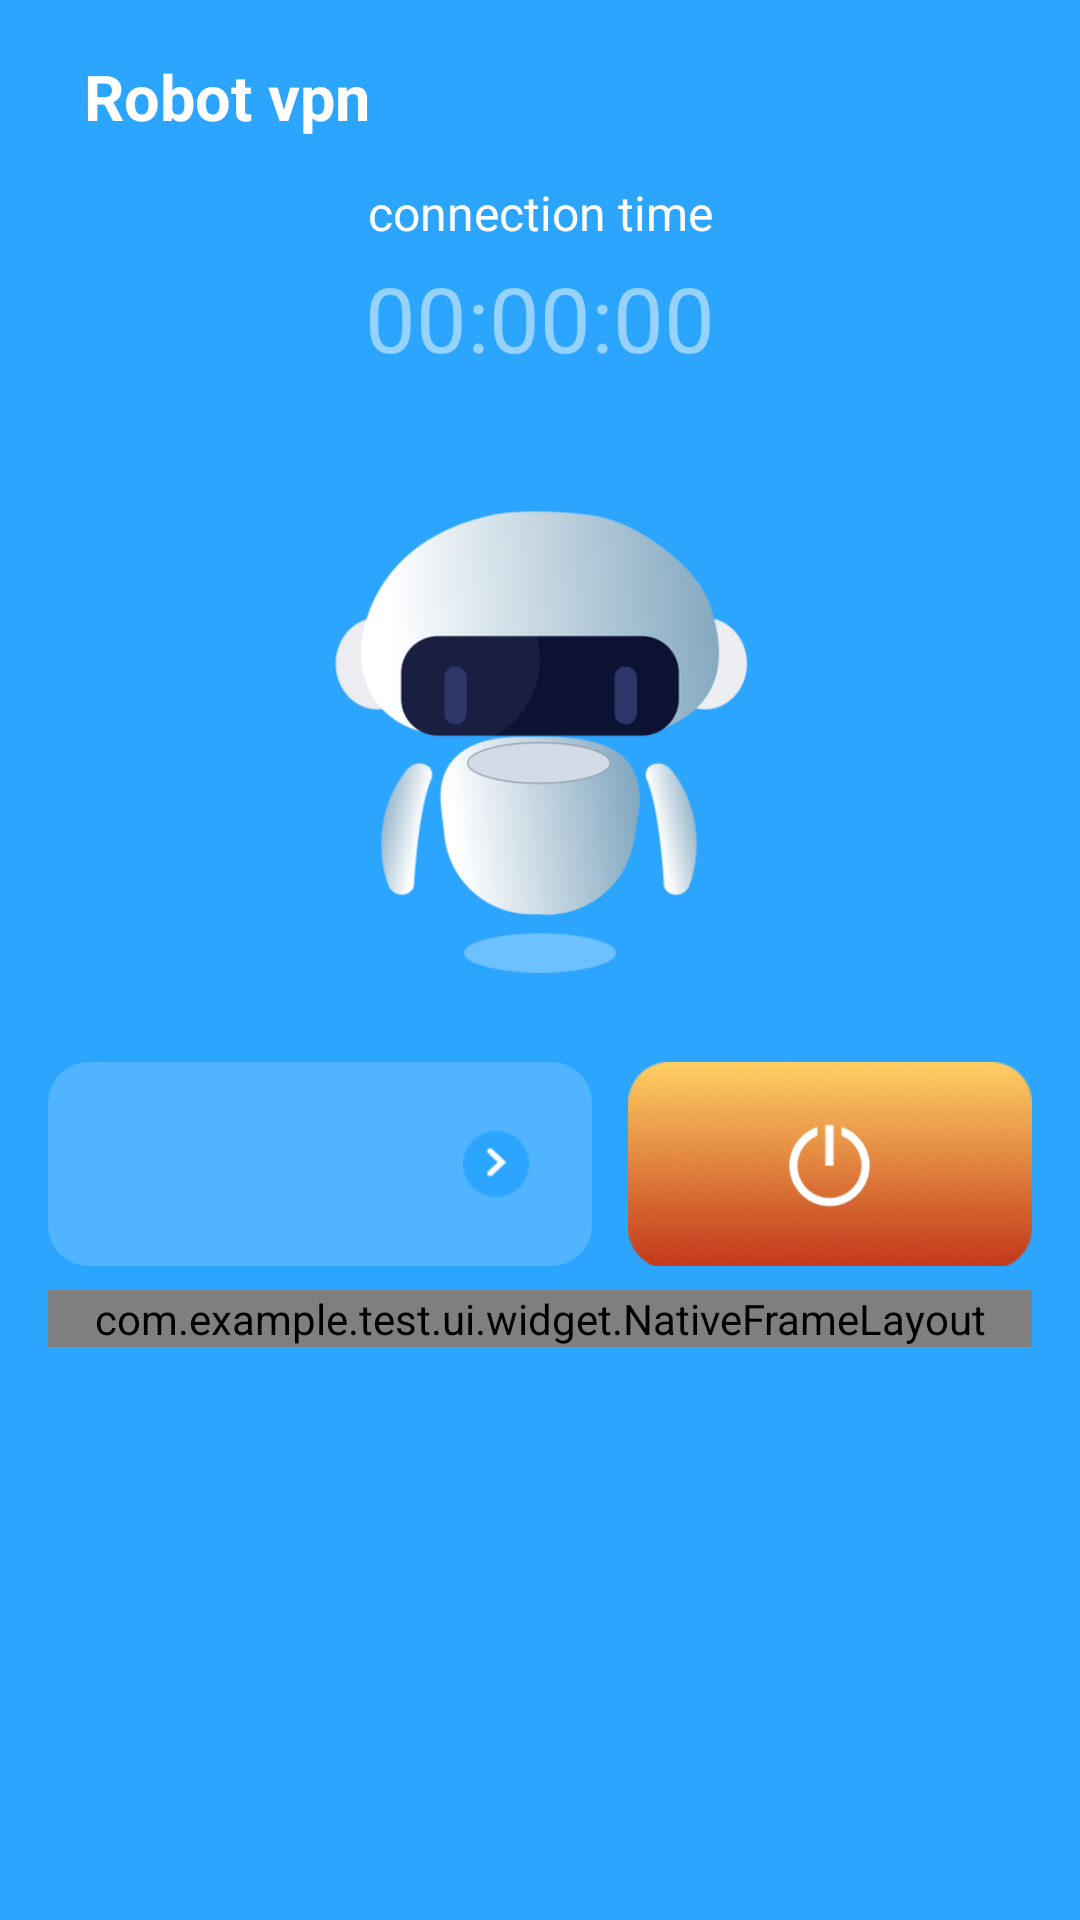

Point at icon controls on the screen. Image size 1080px x 1920px, points as point (x, y).
home toggle close: point (829, 1165)
